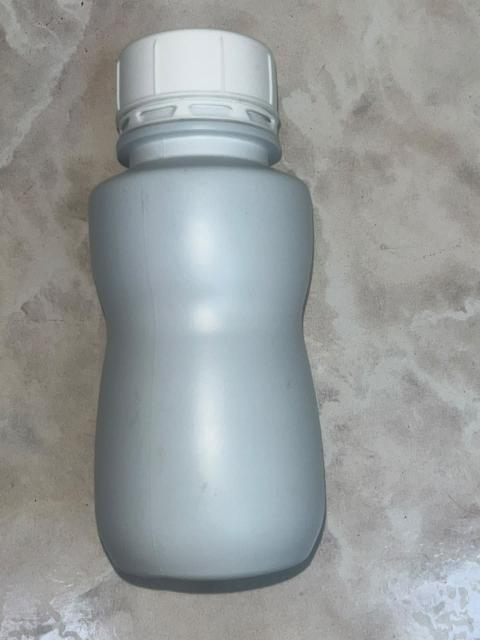HDPE: (71, 24, 367, 621)
